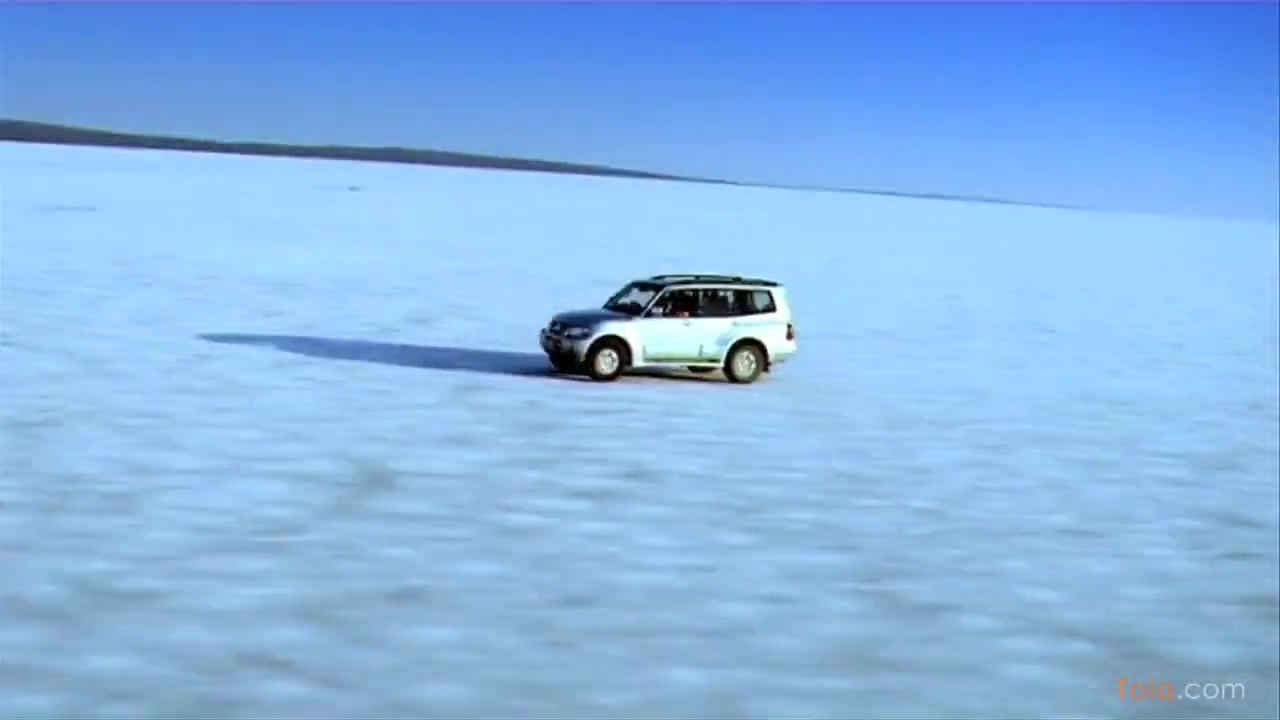car: (541, 277, 798, 384)
